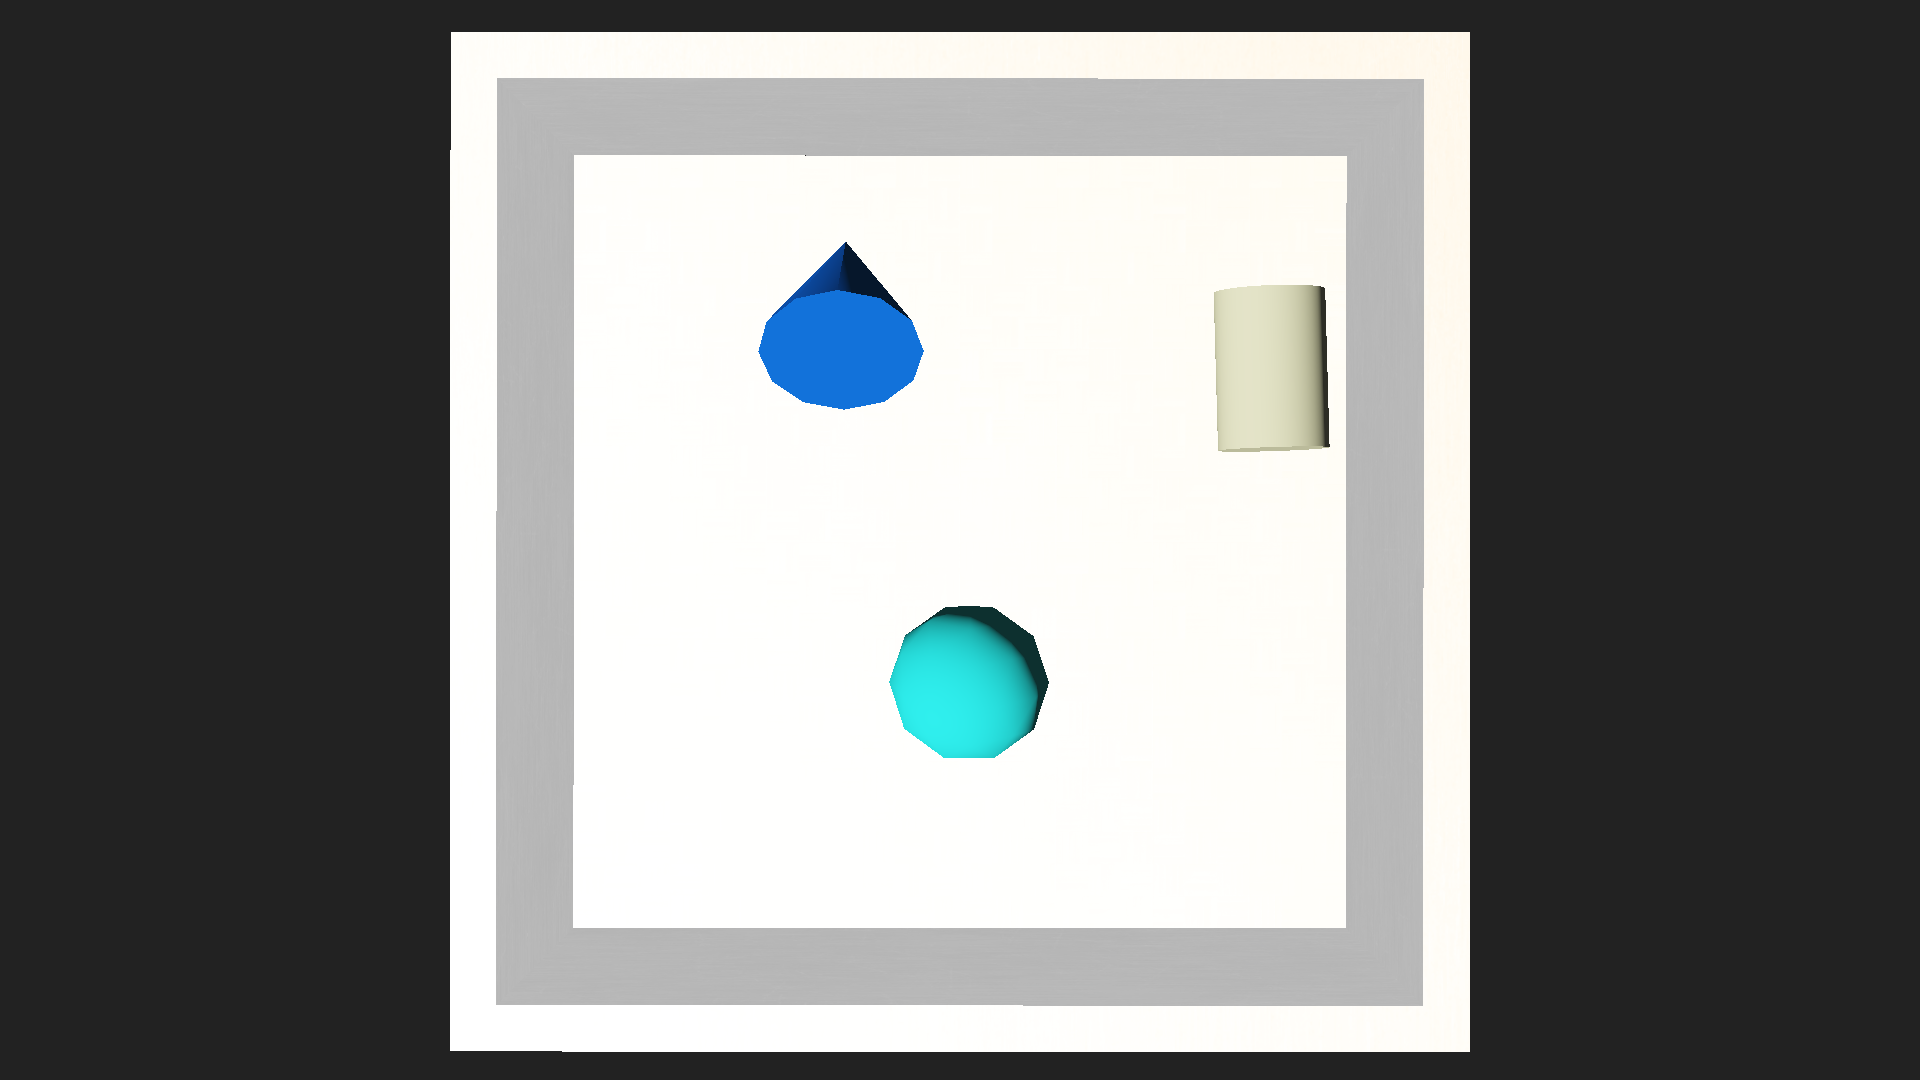cone: (1207, 284, 1337, 452)
cylinder: (760, 169, 918, 410)
sphere: (887, 601, 1048, 761)
